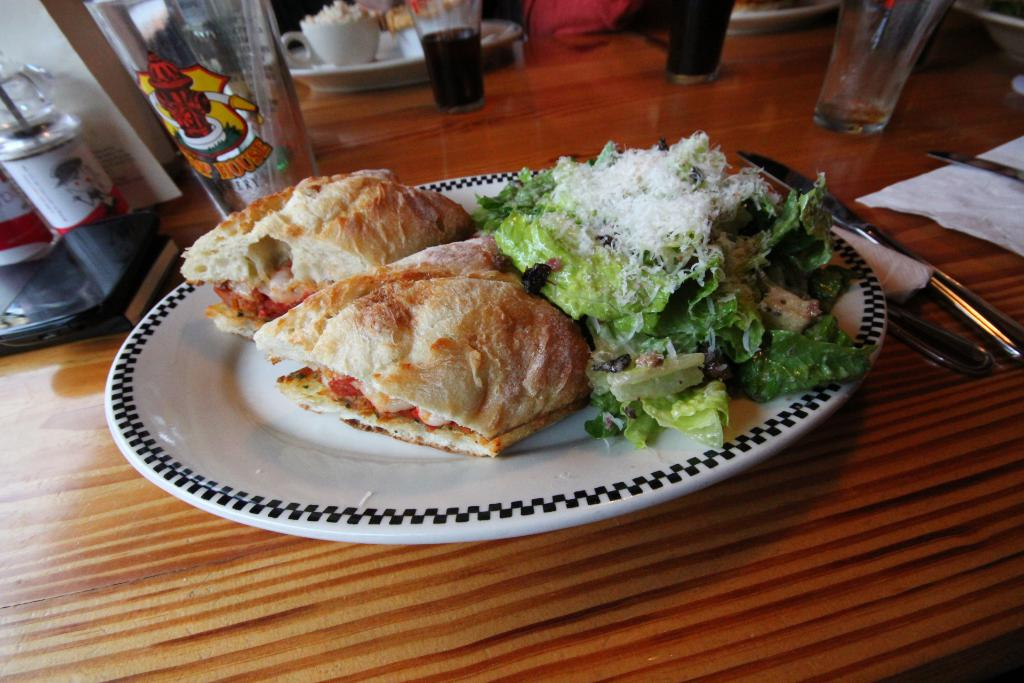sandwich: (252, 233, 593, 461), (172, 165, 471, 339)
